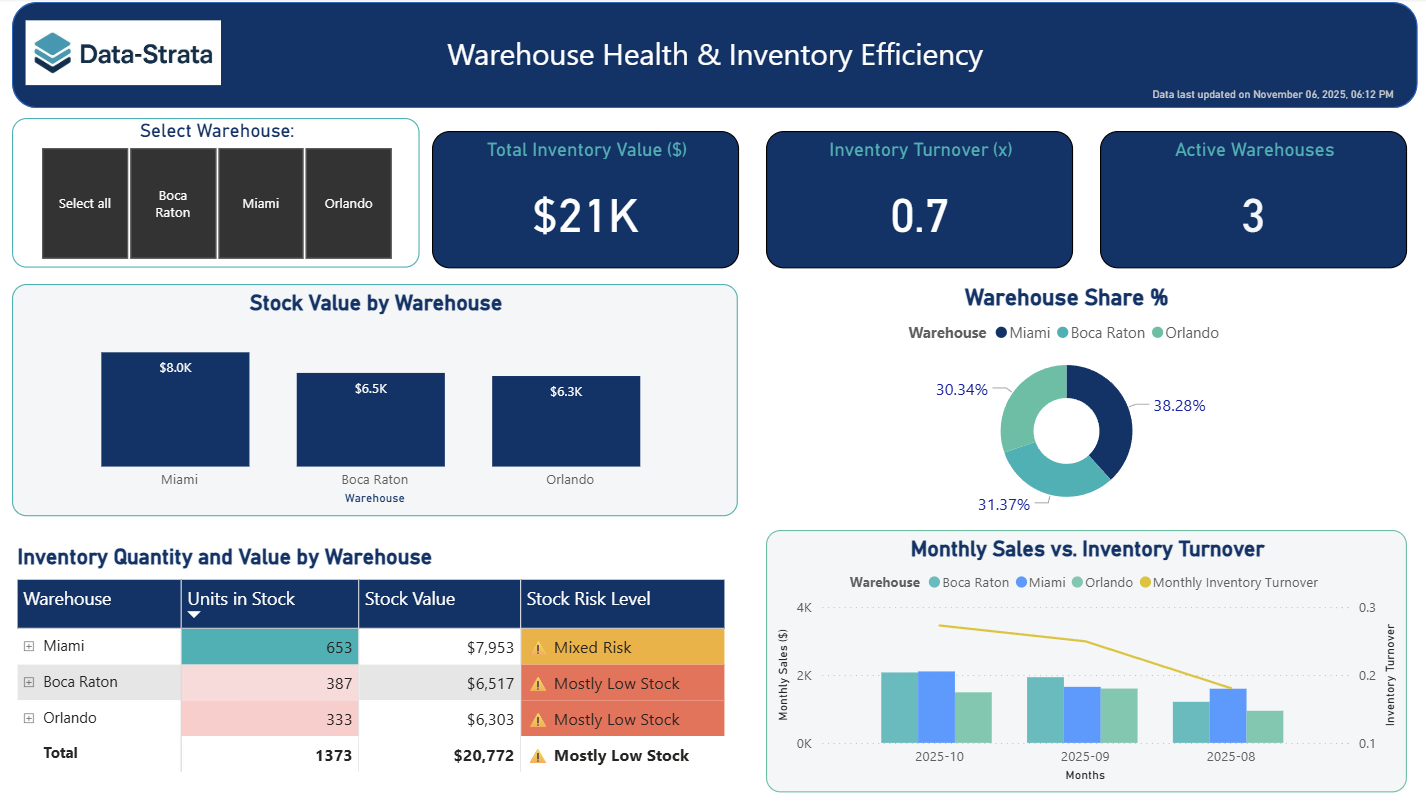

What the dashboard file says about the page in this screenshot:
{"tool":"powerbi","page":{"name":"Warehouse Health","canvas":[1280,720],"ordinal":2},"visuals":[{"type":"shape","box":[13.8,3.7,1258.8,95],"z":0,"group":"g1"},{"type":"card","title":"Total Inventory Value ($)","fields":{"Values":["_Measures.Total Stock Value"]},"box":[389.3,118.8,275,122.5],"z":0},{"type":"textbox","box":[339.4,26.2,607.5,51.2],"z":1000,"group":"g1"},{"type":"card","title":"Inventory Turnover (x)","fields":{"Values":["_Measures.Inventory Turnover"]},"box":[688.4,118.8,275,122.5],"z":1000},{"type":"image","box":[20.9,0,185.1,98.2],"z":2000,"group":"g1"},{"type":"card","title":"Active Warehouses","fields":{"Values":["_Measures.Warehouse Count"]},"box":[987.6,118.8,275,122.5],"z":2000},{"type":"group","id":"g1","title":"Group 1","box":[13.8,0,1258.8,98.8],"z":3000},{"type":"donutChart","title":"Warehouse Share %","fields":{"Category":["vw_WarehouseHealth.Warehouse"],"Y":["_Measures.Stock Value per Warehouse"]},"box":[640,256.2,635,207.5],"z":4000},{"type":"columnChart","title":"Stock Value by Warehouse","fields":{"Category":["vw_WarehouseHealth.Warehouse"],"Y":["_Measures.Total Stock Value"]},"box":[13.8,256.2,650,207.5],"z":5000},{"type":"pivotTable","title":"Inventory Quantity and Value by Warehouse","fields":{"Rows":["vw_InventoryDetail.Warehouse","vw_InventoryDetail.ProductName"],"Values":["Sum(vw_InventoryDetail.StockQty)","_Measures.Total Stock Value","_Measures.Stock Risk Level"]},"box":[13.4,489,650.1,222.1],"z":6000},{"type":"lineClusteredColumnComboChart","title":"Monthly Sales vs. Inventory Turnover","fields":{"Category":["vw_MonthlySalesWarehouse.YearMonth"],"Series":["vw_MonthlySalesWarehouse.Warehouse"],"Y2":["vw_MonthlySales.Monthly Inventory Turnover"],"Y":["Sum(vw_MonthlySalesWarehouse.MonthlySales)"]},"box":[688.7,476.4,574,234.6],"z":7000},{"type":"slicer","title":"Select Warehouse:","fields":{"Values":["vw_InventoryDetail.Warehouse"]},"box":[13.8,107.5,365,133.8],"z":8000},{"type":"card","fields":{"Values":["_Measures.Last Refresh"]},"box":[1022.7,76.1,240,22.4],"z":9000}]}

Visuals, with their boxes in screenshot pixels (x1, y1, x2, y2), scaled from the page's 1280x720 canvas onto the 1426x802 screenshot:
shape: pyautogui.locateOnScreen(15, 4, 1418, 110)
"Total Inventory Value ($)" card: pyautogui.locateOnScreen(434, 132, 740, 269)
textbox: pyautogui.locateOnScreen(378, 29, 1055, 86)
"Inventory Turnover (x)" card: pyautogui.locateOnScreen(767, 132, 1073, 269)
image: pyautogui.locateOnScreen(23, 0, 229, 109)
"Active Warehouses" card: pyautogui.locateOnScreen(1100, 132, 1407, 269)
"Group 1" group: pyautogui.locateOnScreen(15, 0, 1418, 110)
"Warehouse Share %" donutChart: pyautogui.locateOnScreen(713, 285, 1420, 517)
"Stock Value by Warehouse" columnChart: pyautogui.locateOnScreen(15, 285, 740, 517)
"Inventory Quantity and Value by Warehouse" pivotTable: pyautogui.locateOnScreen(15, 545, 739, 792)
"Monthly Sales vs. Inventory Turnover" lineClusteredColumnComboChart: pyautogui.locateOnScreen(767, 531, 1407, 792)
"Select Warehouse:" slicer: pyautogui.locateOnScreen(15, 120, 422, 269)
card - _Measures.Last Refresh: pyautogui.locateOnScreen(1139, 85, 1407, 110)
